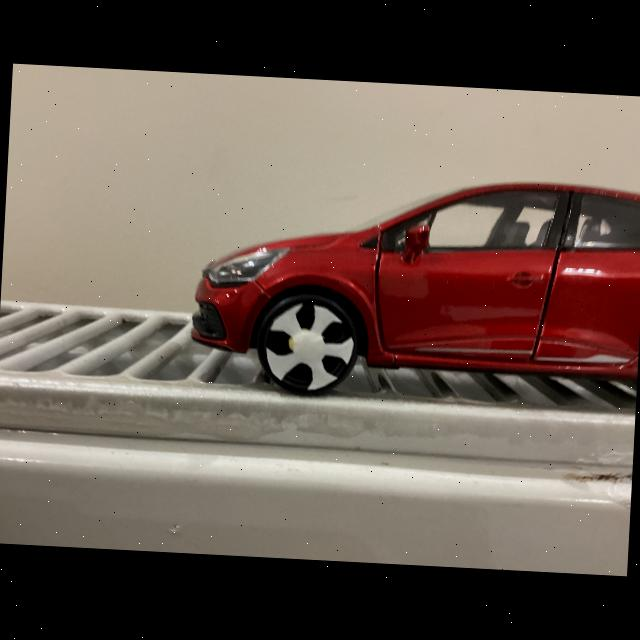Yanlis_Jant: (261, 298, 356, 392)
